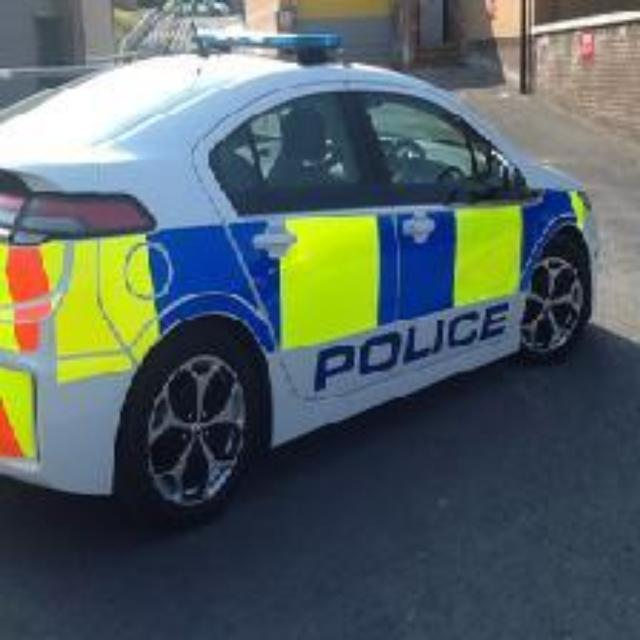emergency: (0, 37, 602, 511)
